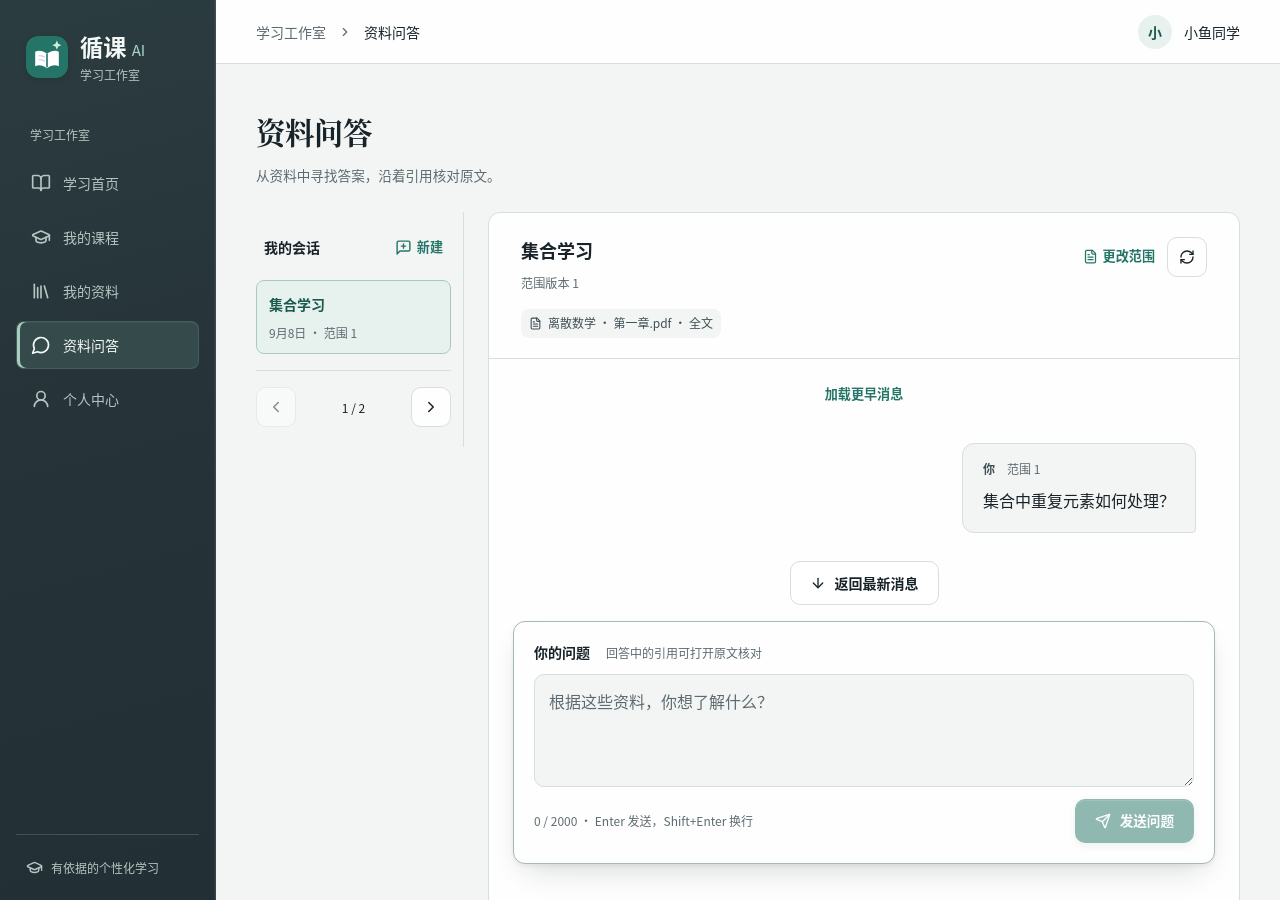
it: knowledge QA › paginates sessions and prepends older history without dropping the current answer
The width and height of the screenshot is (1280, 900).
Click the button "加载更早消息" at (864, 395), box [825, 379, 903, 411]
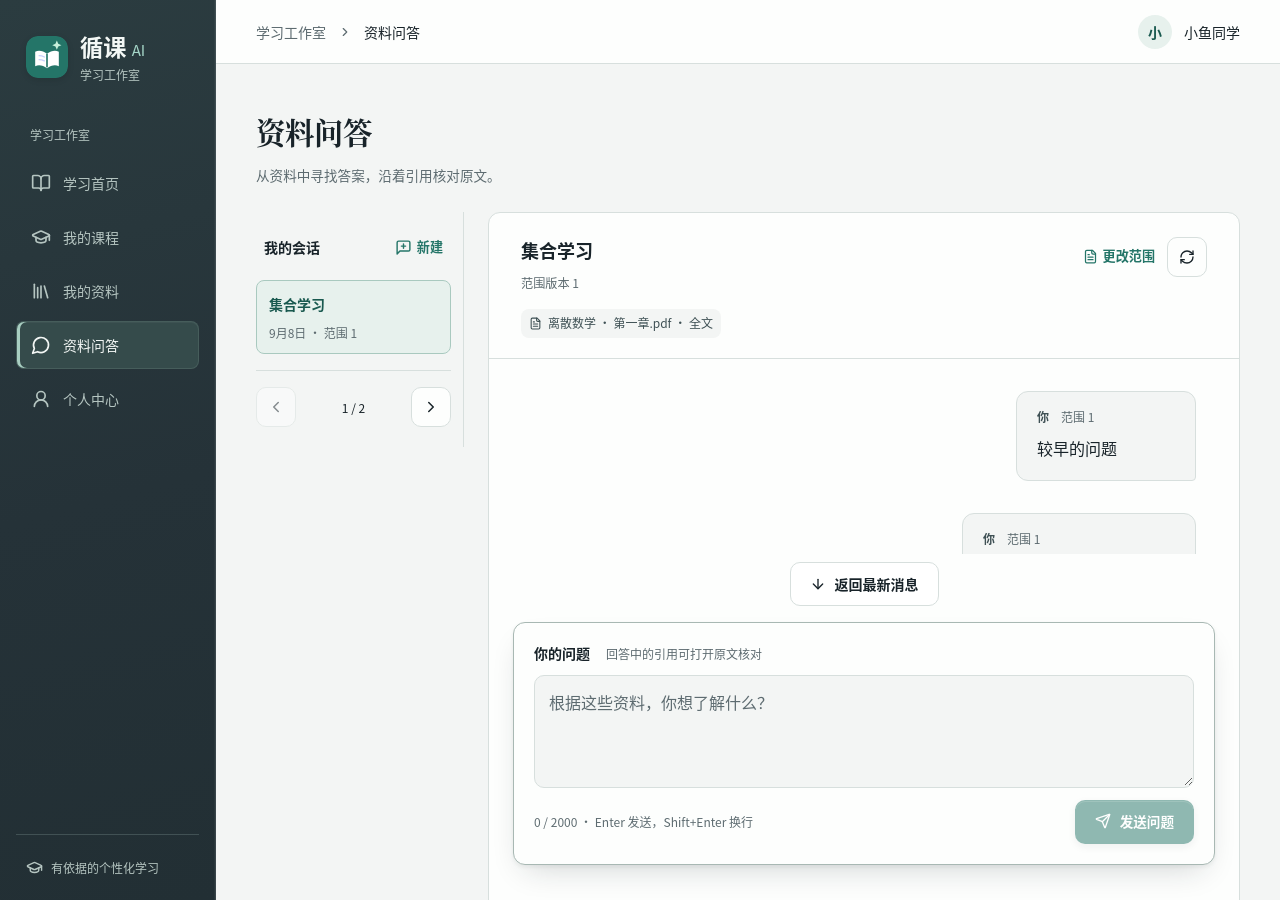
Expected: the text "重复元素只保留一个。" is shown, [532, 717, 692, 741]
Result: the text "较早的问题" is shown at [1037, 436, 1117, 460]
Click the button named "下一页会话" at (431, 407), box [411, 387, 451, 427]
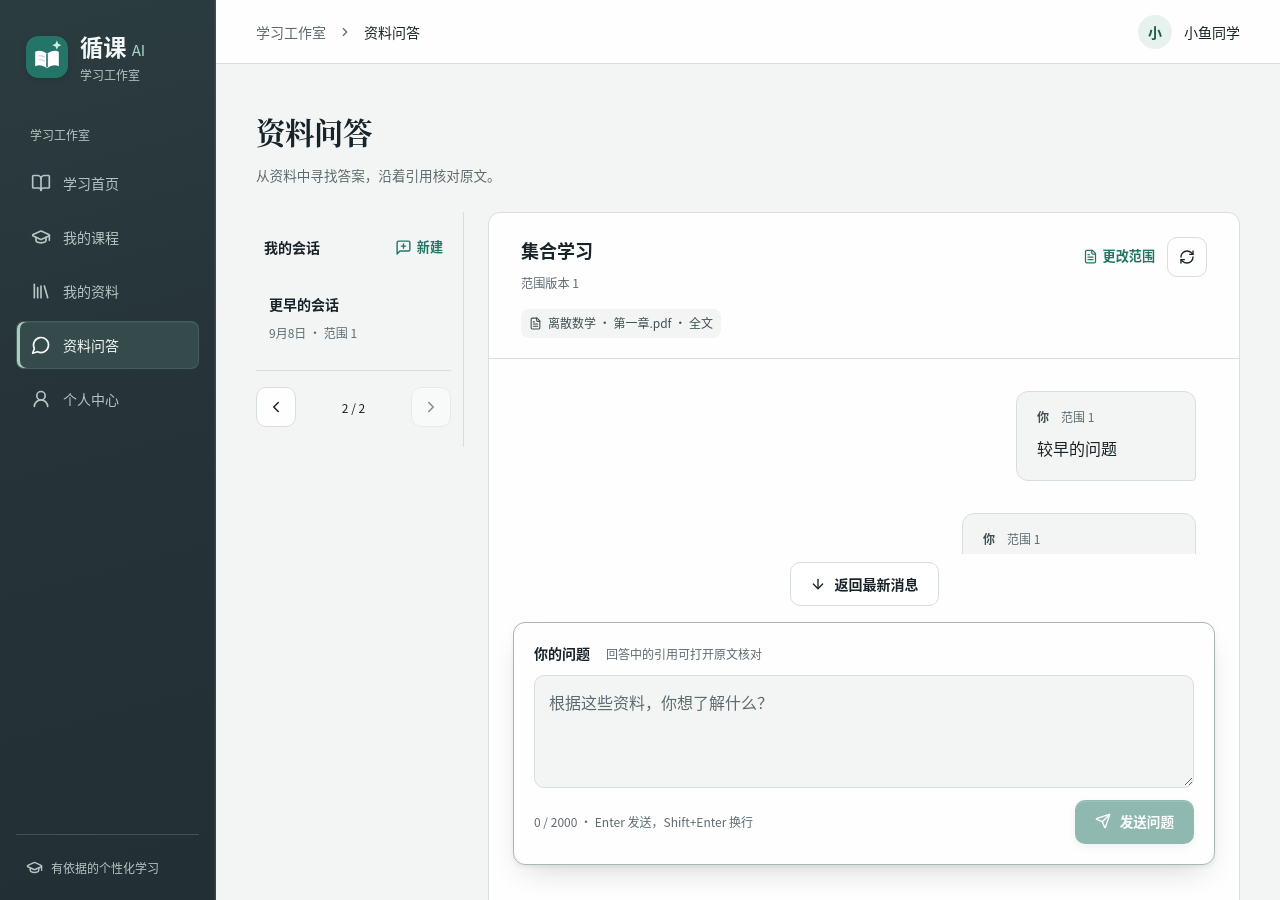
Result: the link "更早的会话" is shown at [269, 294, 357, 341]
